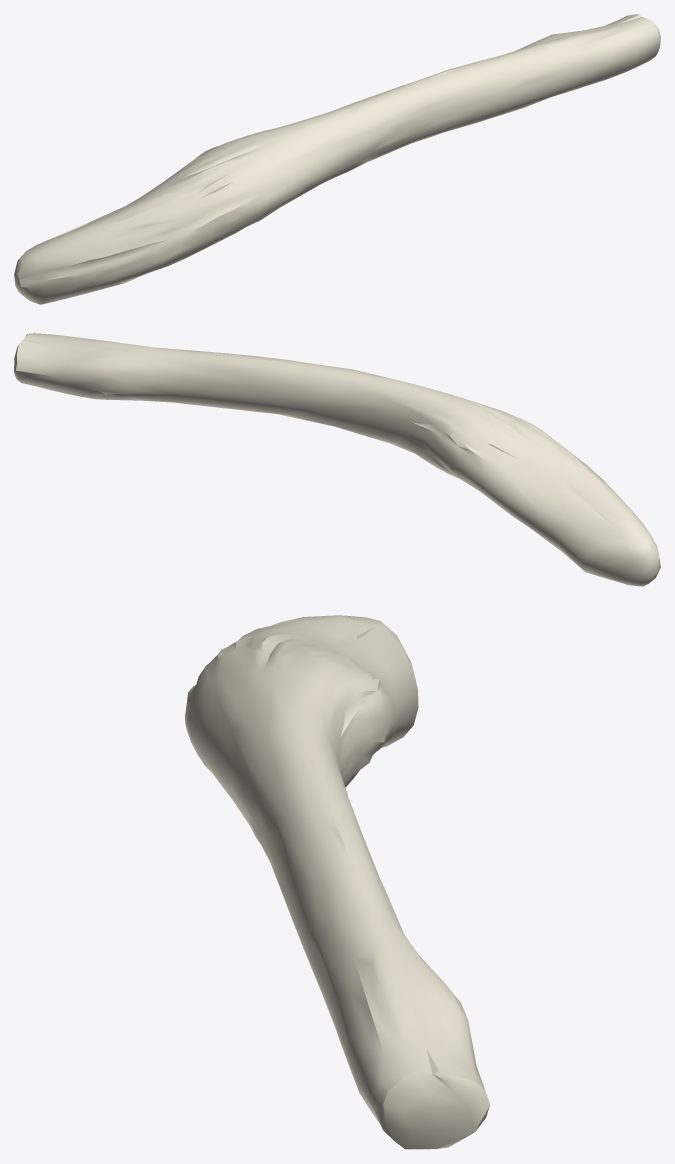
The model's file is fma44664_mm1403.glb.
3 views of the same model, one above another, from view 1: azimuth 30°, elevation 25°; view 2: azimuth 150°, elevation 25°; view 3: azimuth 270°, elevation 25° (orthographic). The views are drawn at different scales.
Parts seen in each view (by area): view 1: FMA44664_MM1403; view 2: FMA44664_MM1403; view 3: FMA44664_MM1403.
Part boxes in pixels (bbox=[...]): FMA44664_MM1403: bbox=[14, 14, 660, 304]; FMA44664_MM1403: bbox=[14, 333, 660, 586]; FMA44664_MM1403: bbox=[185, 615, 489, 1149].
Bounding box in the file's own units: 0.0505 × 0.0101 × 0.0107.
